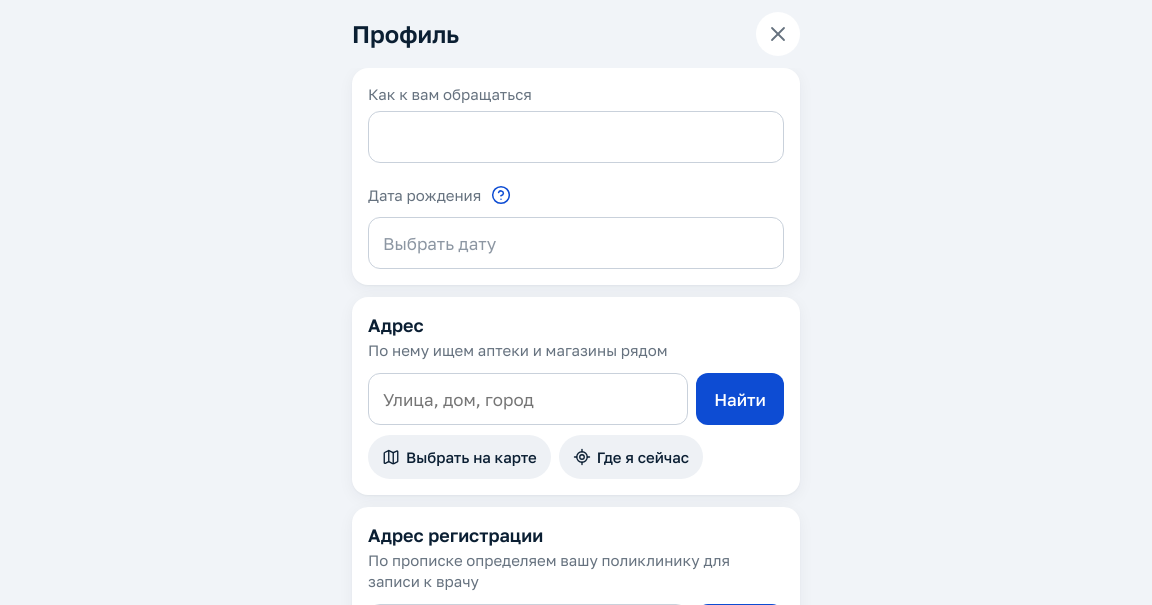
Test case: ProfilePage › «Где я сейчас»: геолокация есть и нет
The width and height of the screenshot is (1152, 605).
Click the button "Где я сейчас" below "По нему ищем аптеки и магазины рядом" at (631, 457), box [559,435,703,479]
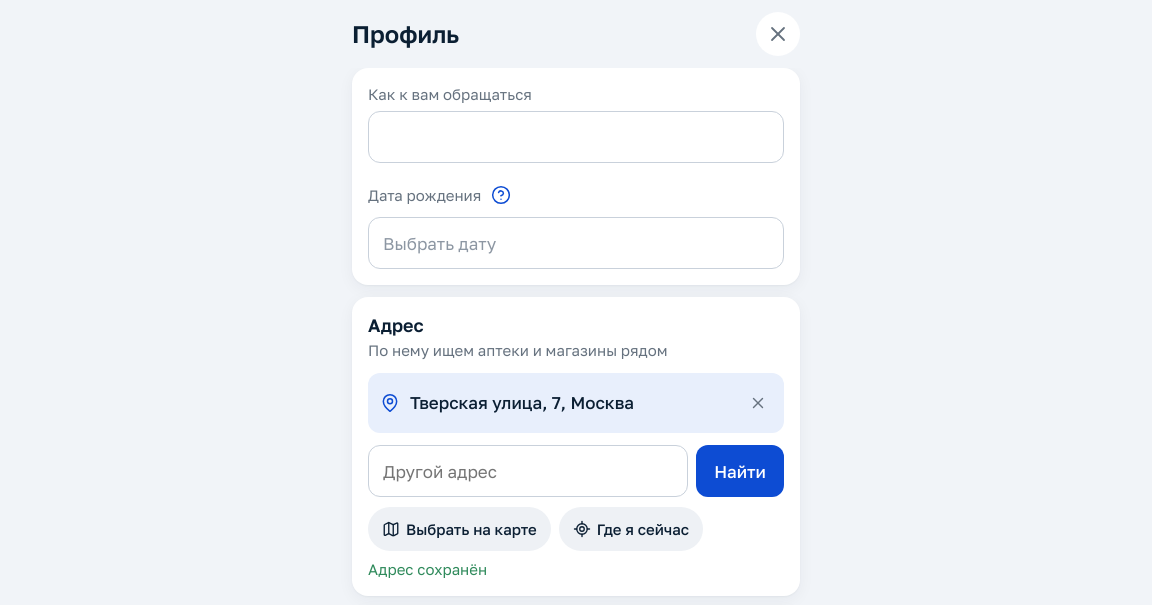
Expected: the text "Тверская улица, 7, Москва" is shown, [410,392,634,413]
Click the button "Где я сейчас" at (631, 529), box [559,507,703,551]
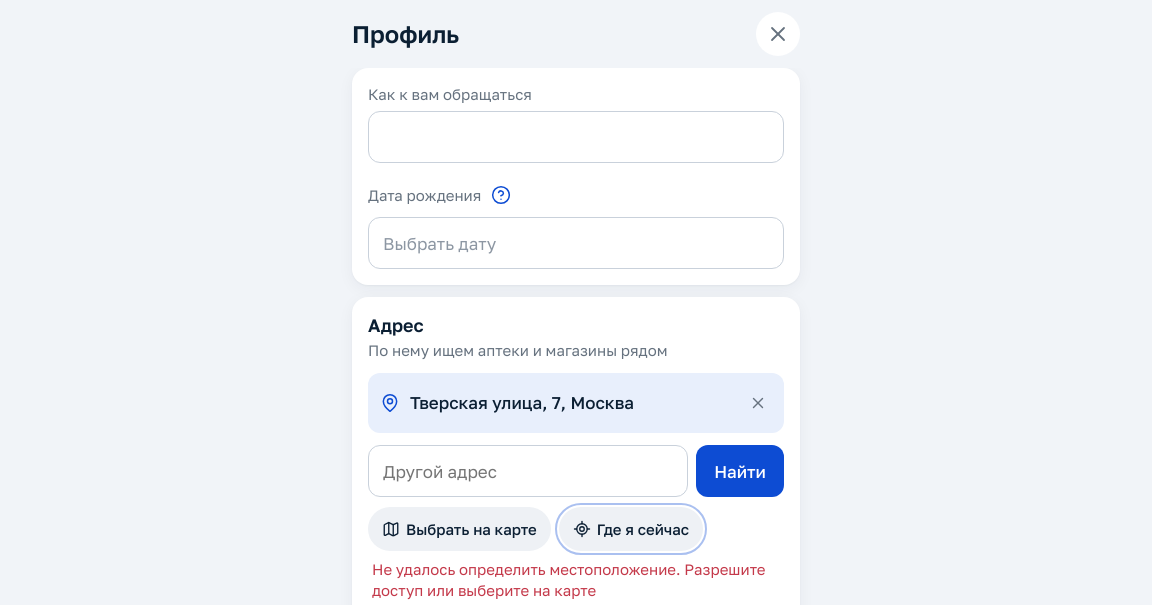
Expected: the text "Не удалось определить местоположение. Разрешите доступ или выберите на карте" is shown, [372,559,780,601]
